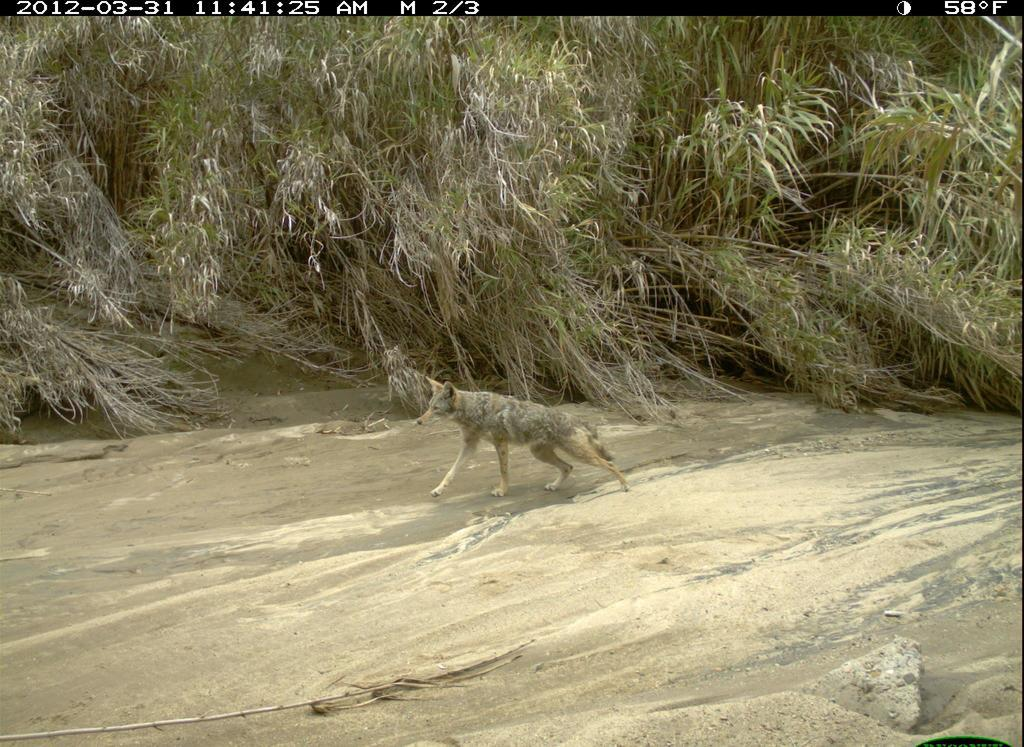coyote: (414, 370, 634, 502)
